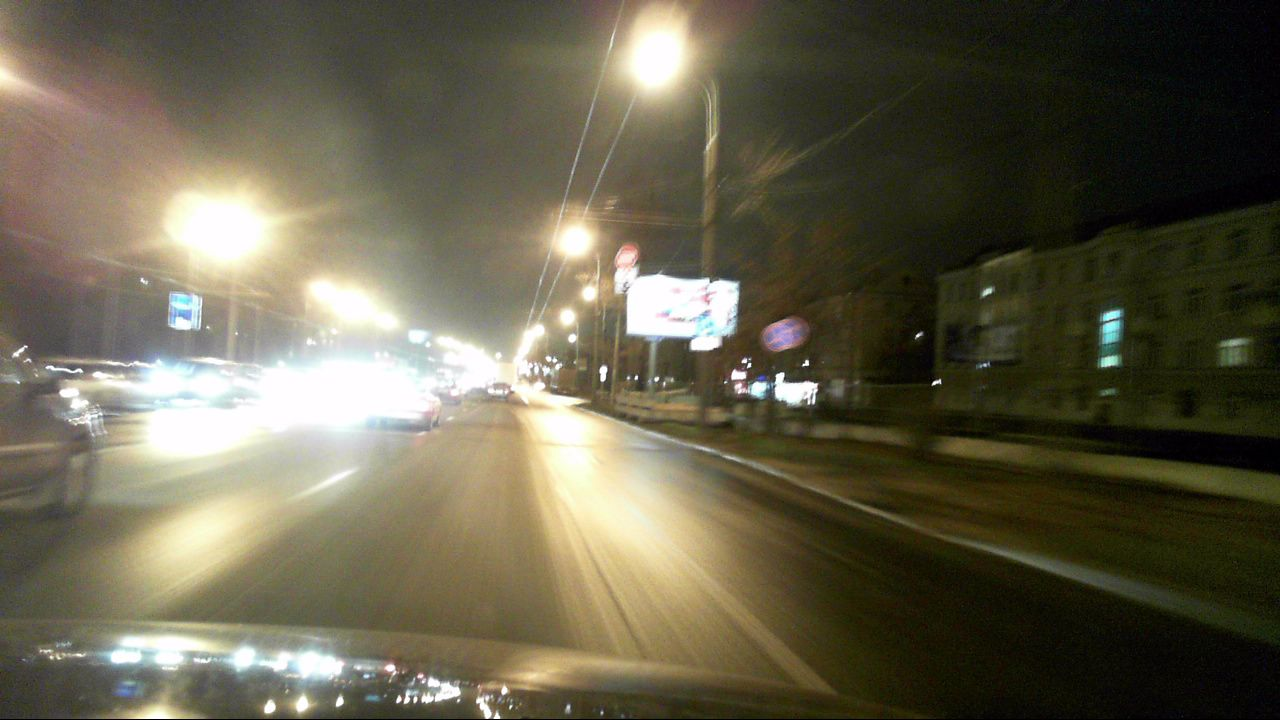No Parking: (764, 321, 794, 351)
